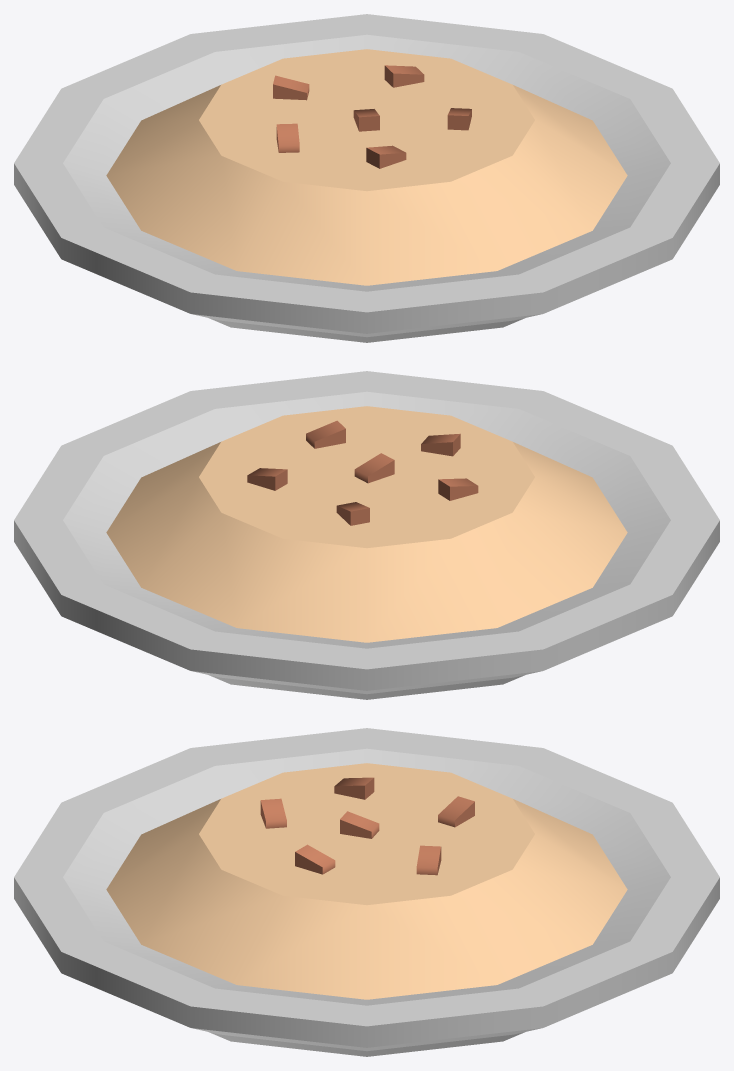
The model's file is plateSauerkraut.GLB.
3 renders of one model, top to bottom at view 1: azimuth 30°, elevation 25°; view 2: azimuth 150°, elevation 25°; view 3: azimuth 270°, elevation 25°, orthographic.
Visible parts, largest first — view 1: plateSauerkraut; view 2: plateSauerkraut; view 3: plateSauerkraut.
Part boxes in pixels (bbox=[...]): plateSauerkraut: bbox=[14, 14, 719, 342]; plateSauerkraut: bbox=[14, 371, 719, 699]; plateSauerkraut: bbox=[14, 728, 719, 1056].
Size of the model in its own units: 0.8918 by 0.17 by 0.8918.
